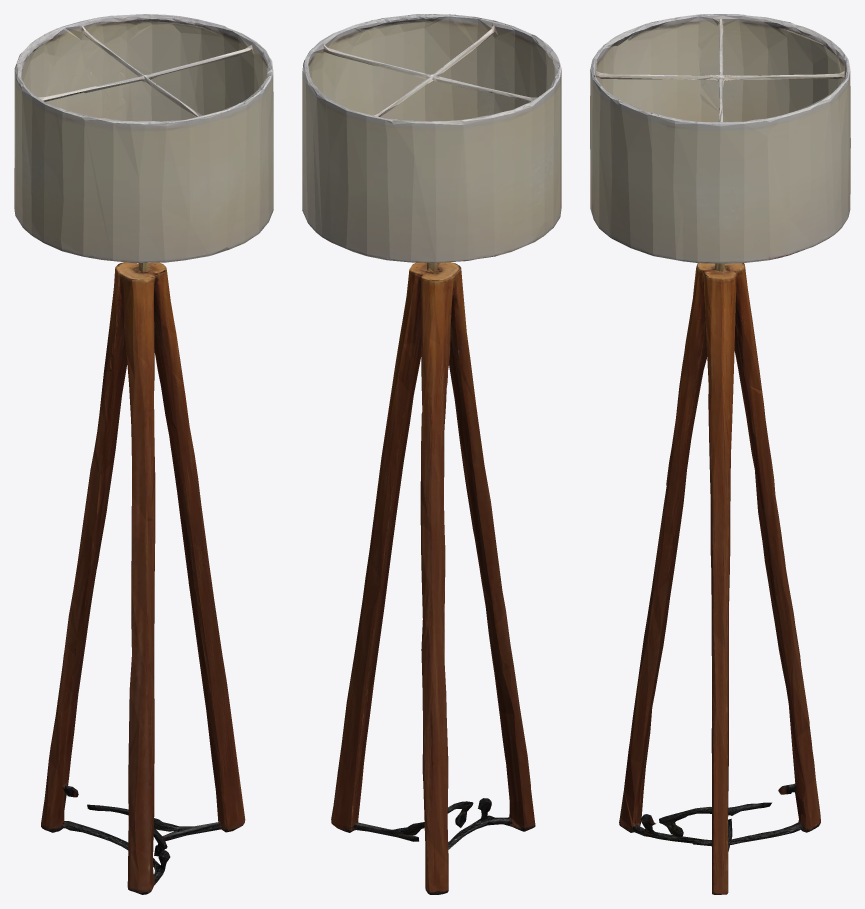
File: floorLamp.glb
3 renders of one model, left to right at view 1: azimuth 30°, elevation 25°; view 2: azimuth 150°, elevation 25°; view 3: azimuth 270°, elevation 25°, orthographic.
Visible parts, largest first — view 1: world; view 2: world; view 3: world.
Boxes of the visible parts, x1,y1,x2,y2 form: world: (14,14,273,894); world: (302,14,561,894); world: (590,14,850,894).
Bounding box in the file's own units: 0.3014 × 1 × 0.301.
1 material, 1 textured.
